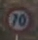limite 70: (6, 6, 31, 33)
